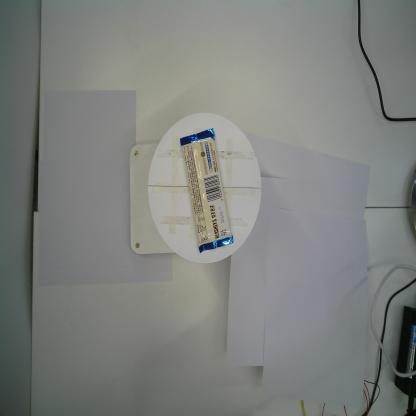Chocolate: (177, 125, 235, 254)
